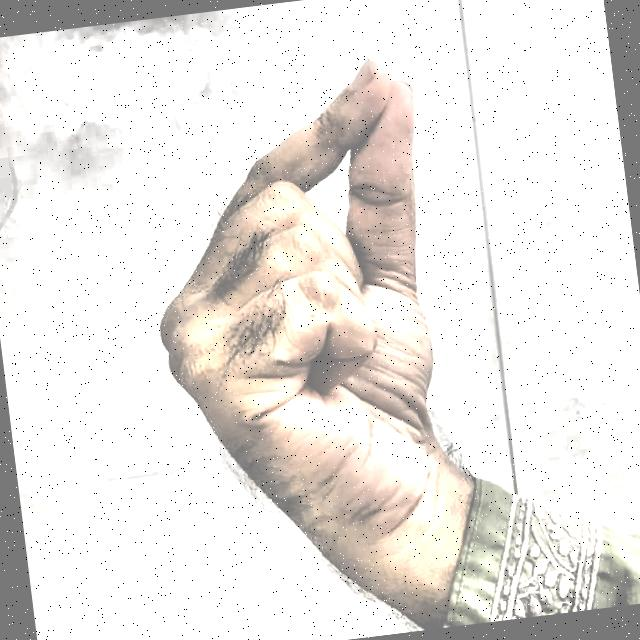Anusshar: (99, 36, 528, 612)
